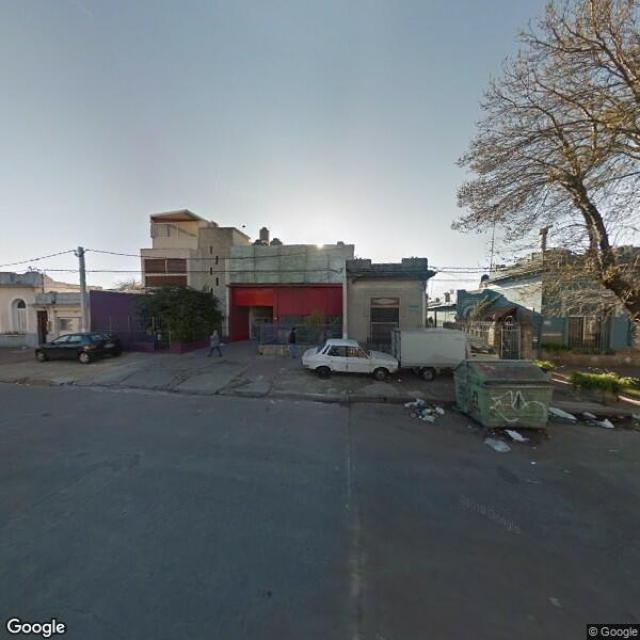garbage container: (442, 349, 572, 445)
